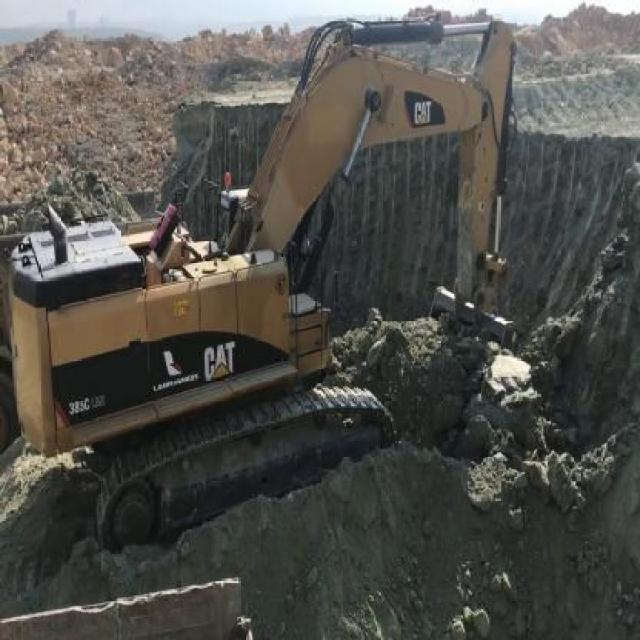Excavator: (0, 6, 520, 559)
